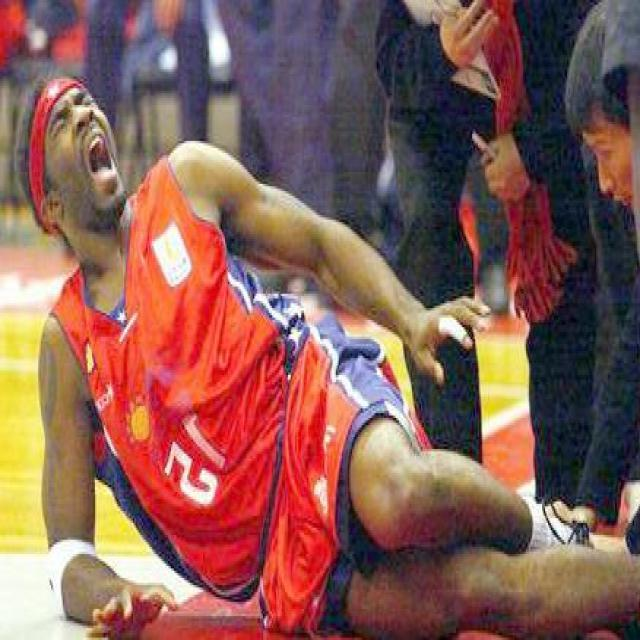fall: (24, 82, 626, 638)
